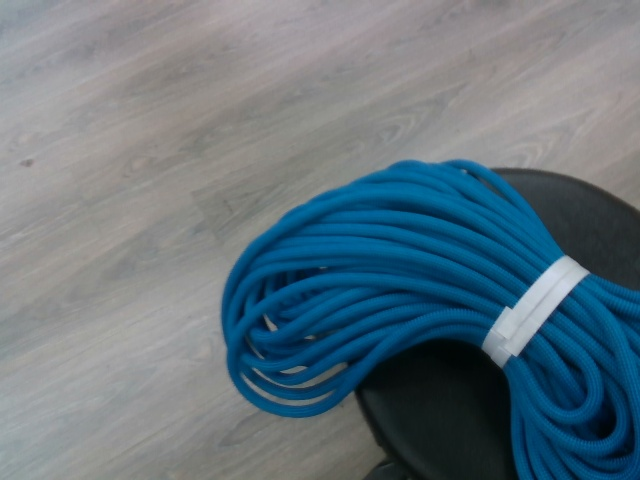rope: (217, 156, 640, 480)
